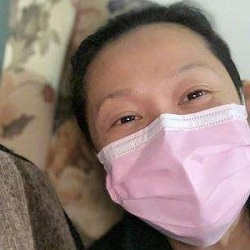mask: (100, 102, 249, 247)
